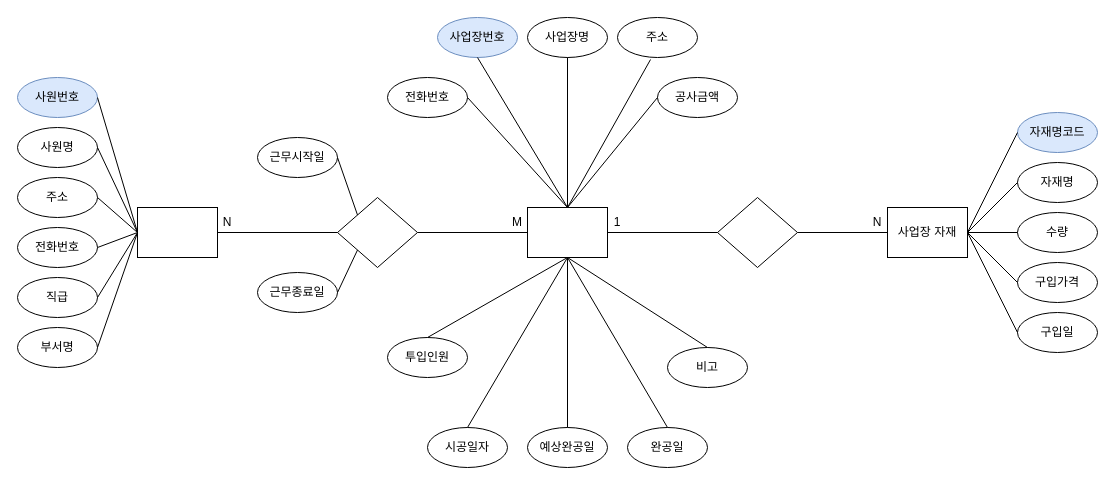
Some shapes in this 1115 by 485 pixel diagram are drawn without their labels. The centre of each missing label's shape, as x and y in pixels:
"관리" belongs at point 757,232.
"근무" belongs at point 377,232.
"사업장" belongs at point 567,232.
"사원" belongs at point 177,232.
